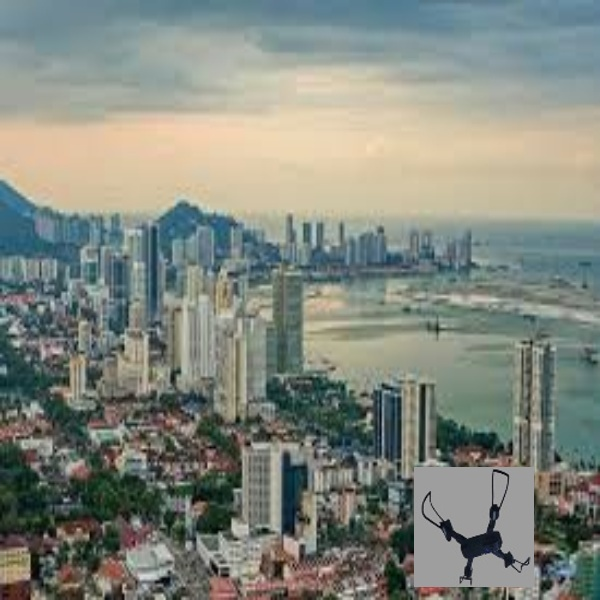drone: (417, 464, 531, 585)
